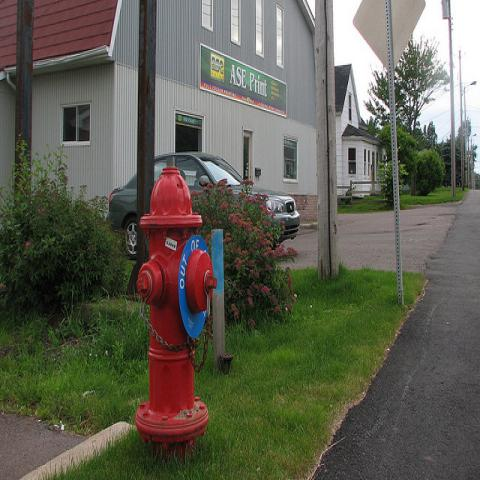car: (107, 152, 300, 256)
